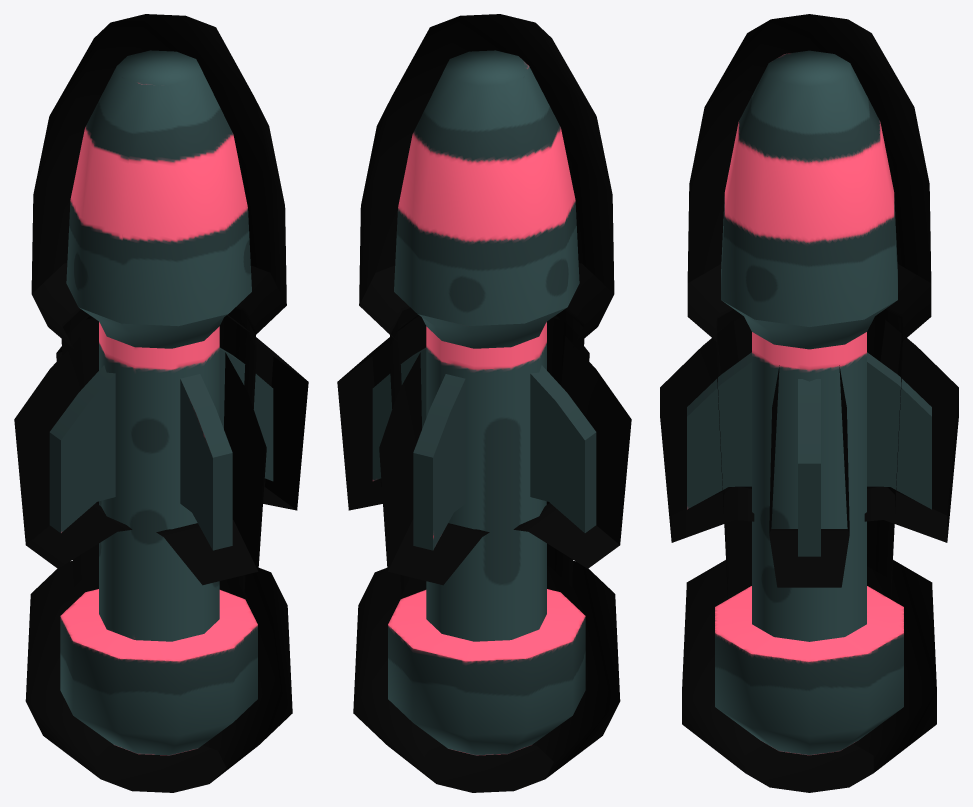
File: bullet_HOMING.fbx
The picture shows the model from 3 angles, left to right: view 1: azimuth 30°, elevation 25°; view 2: azimuth 150°, elevation 25°; view 3: azimuth 270°, elevation 25°; orthographic projection.
Visible parts, largest first — view 1: pCylinder15 (×2); view 2: pCylinder15 (×2); view 3: pCylinder15 (×2).
Boxes of the visible parts, left/top/right/bottom form: pCylinder15 (×2): left=14, top=14, right=308, bottom=792; pCylinder15 (×2): left=337, top=14, right=631, bottom=792; pCylinder15 (×2): left=660, top=14, right=958, bottom=792.
Size of the model in its own units: 3.51 by 9.5 by 3.51.
2 materials, 1 textured.
